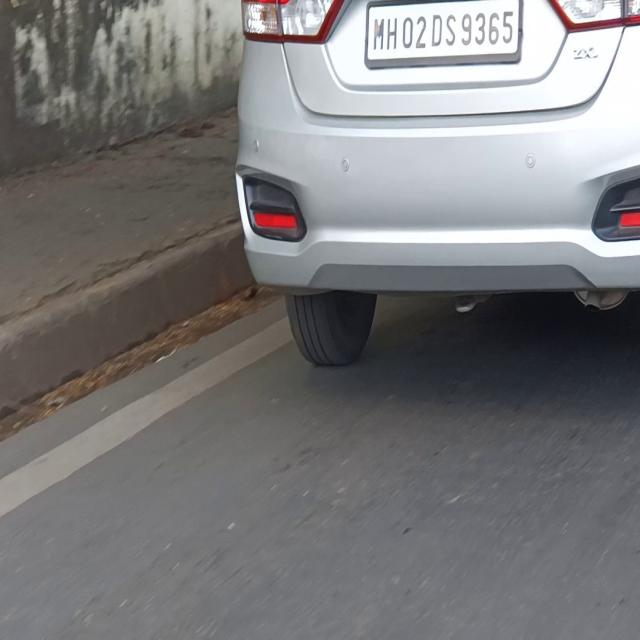Plate: (368, 2, 520, 58)
